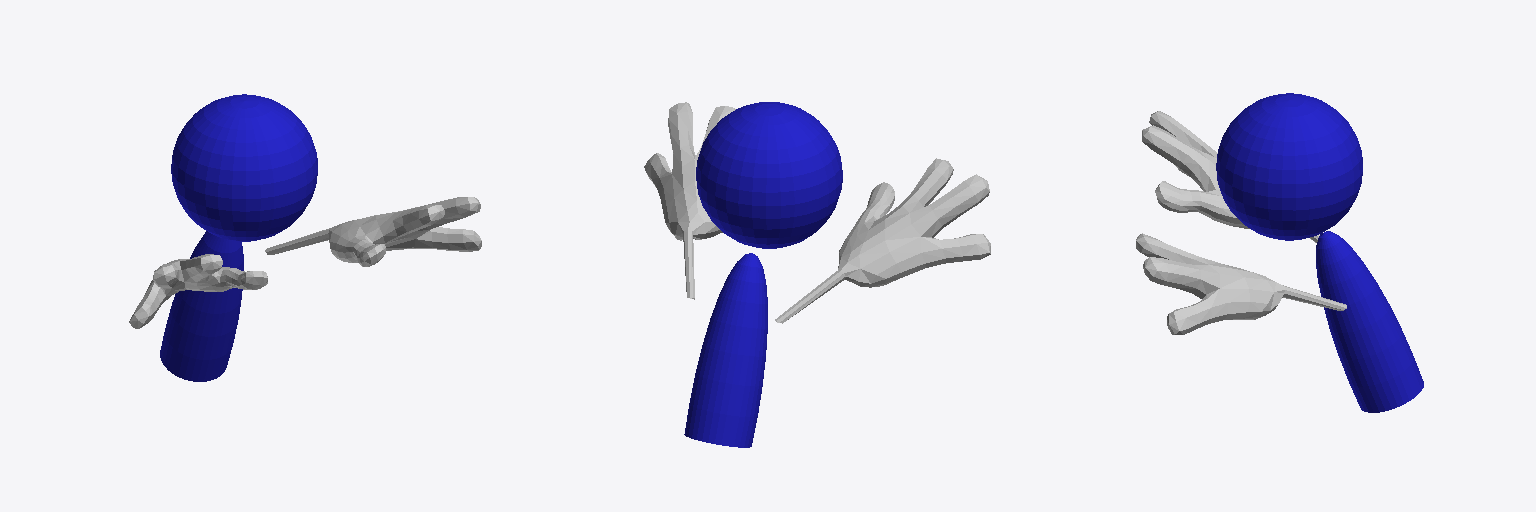
Rendered from keeper_blue.obj.
The picture shows the model from 3 angles: view 1: azimuth 30°, elevation 25°; view 2: azimuth 150°, elevation 25°; view 3: azimuth 270°, elevation 25°; orthographic projection.
Parts seen in each view (by area): view 1: Sphere_Sphere.001, Sphere.001_Sphere.002, hand.001_hand.003, hand.000_hand.006; view 2: Sphere_Sphere.001, hand.000_hand.006, Sphere.001_Sphere.002, hand.001_hand.003; view 3: Sphere_Sphere.001, Sphere.001_Sphere.002, hand.001_hand.003, hand.000_hand.006.
Part boxes in pixels (x1,y1,x2,y2): Sphere_Sphere.001: (171, 94, 317, 241); Sphere.001_Sphere.002: (160, 231, 243, 381); hand.001_hand.003: (265, 197, 481, 266); hand.000_hand.006: (129, 254, 267, 328); Sphere_Sphere.001: (696, 102, 842, 248); hand.000_hand.006: (775, 158, 990, 323); Sphere.001_Sphere.002: (684, 253, 767, 447); hand.001_hand.003: (644, 102, 735, 299); Sphere_Sphere.001: (1216, 93, 1362, 240); Sphere.001_Sphere.002: (1316, 231, 1423, 412); hand.001_hand.003: (1136, 233, 1346, 334); hand.000_hand.006: (1142, 111, 1319, 242).
Size of the model in its own units: 5.46 by 4.57 by 3.91.